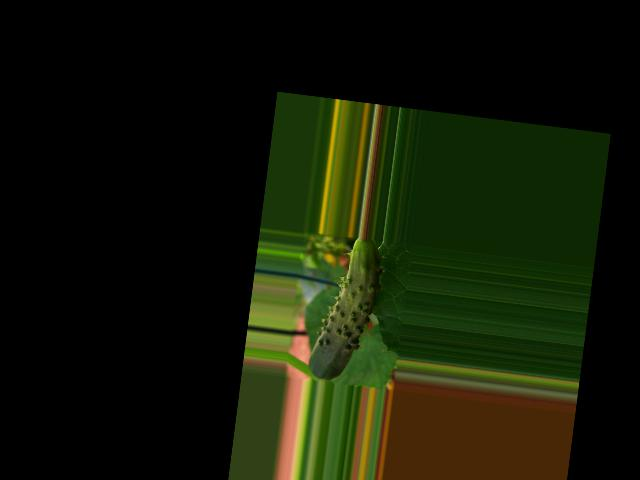cucumber: (307, 234, 386, 386)
